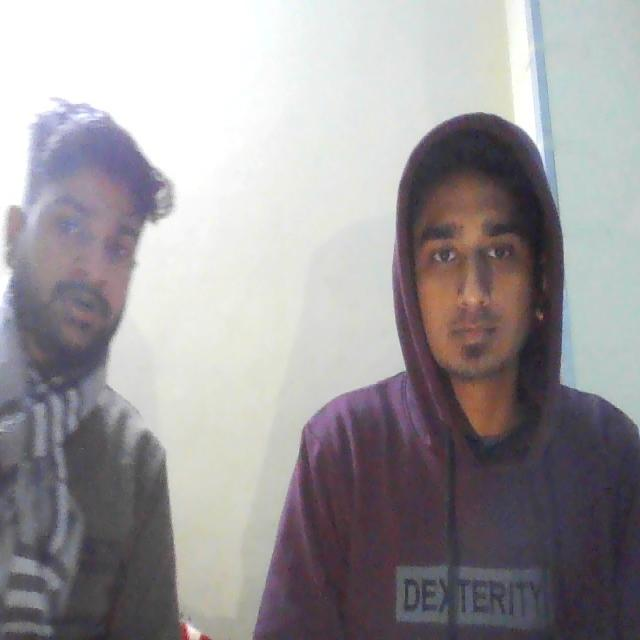real: (399, 109, 557, 408), (13, 112, 146, 363)
